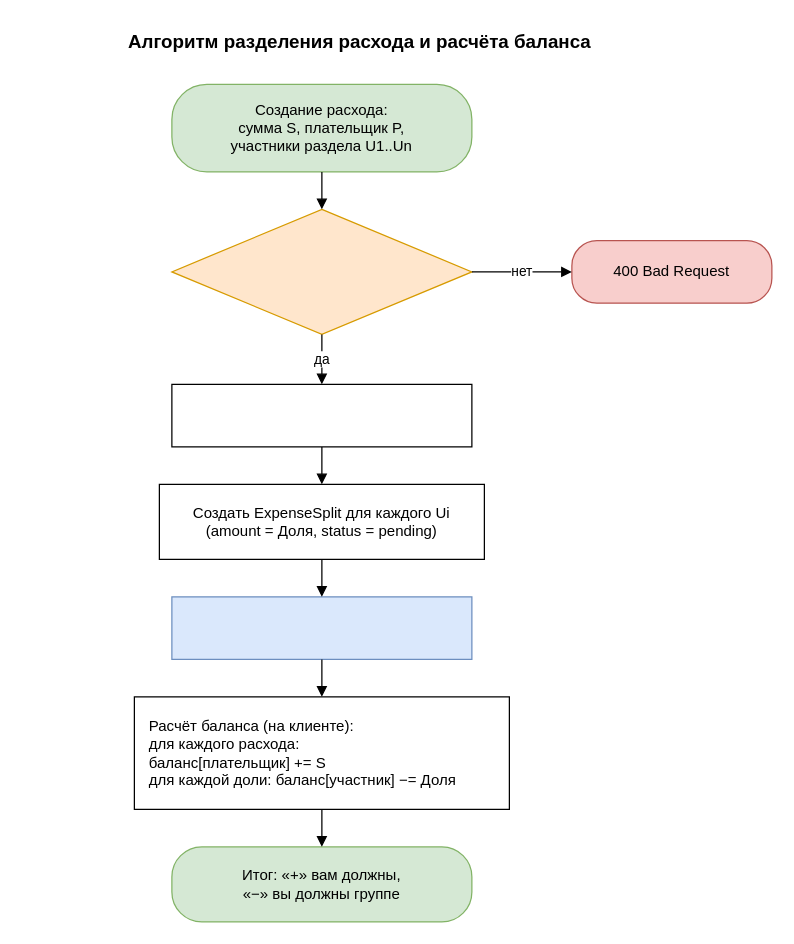
This 794x944 diagram has some shape labels left out. Here are the shapes that lost their labels. From the top down, the centre of each, then its label:
At point 321,271: "P и все Ui — участники поездки?".
At point 321,415: "Доля = округлить(S / n, до копеек)".
At point 321,627: "Сохранить Expense + доли".
